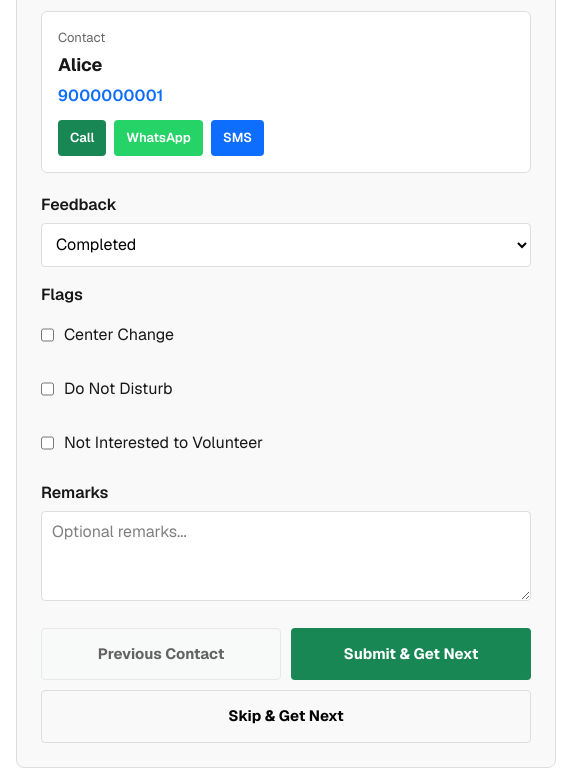
Test case: CampaignCallScreen › skips current contact and loads next contact card
(page scrolled)
Click the button "Skip & Get Next" at [286, 716], box [41,690,531,742]
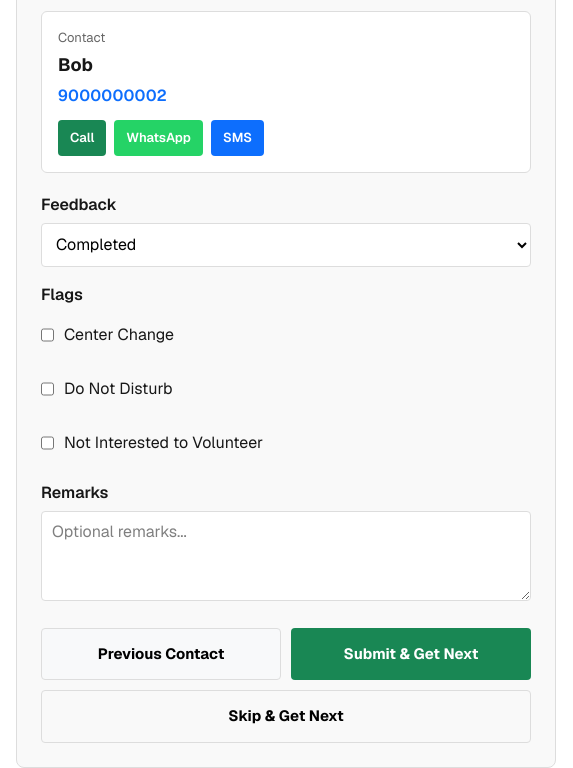
Result: the text "Bob" is shown at [58,53,93,76]
Result: the link "9000000002" is shown at [58,84,167,108]
